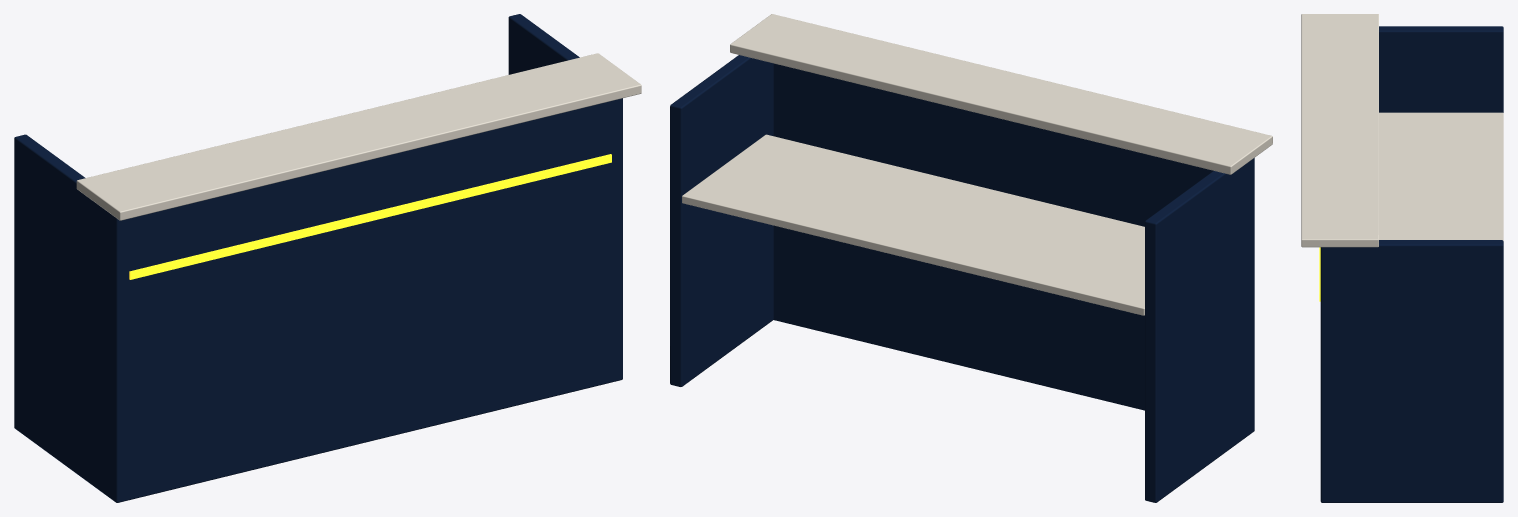
File: reception.glb
The picture shows the model from 3 angles, left to right: view 1: azimuth 30°, elevation 25°; view 2: azimuth 150°, elevation 25°; view 3: azimuth 270°, elevation 25°; orthographic projection. The views are drawn at different scales.
Parts seen in each view (by area): view 1: reception; view 2: reception; view 3: reception.
Part boxes in pixels (<box>): reception: <box>14,14,641,502</box>; reception: <box>670,14,1272,502</box>; reception: <box>1301,14,1503,502</box>.
Bounding box in the file's own units: 2.06 × 1.14 × 0.78.
